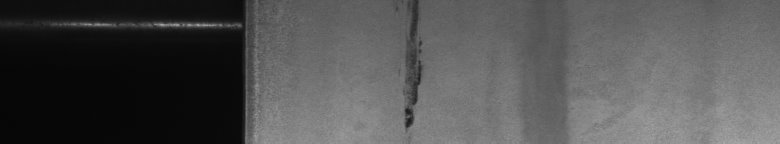hd: (401, 4, 422, 132)
